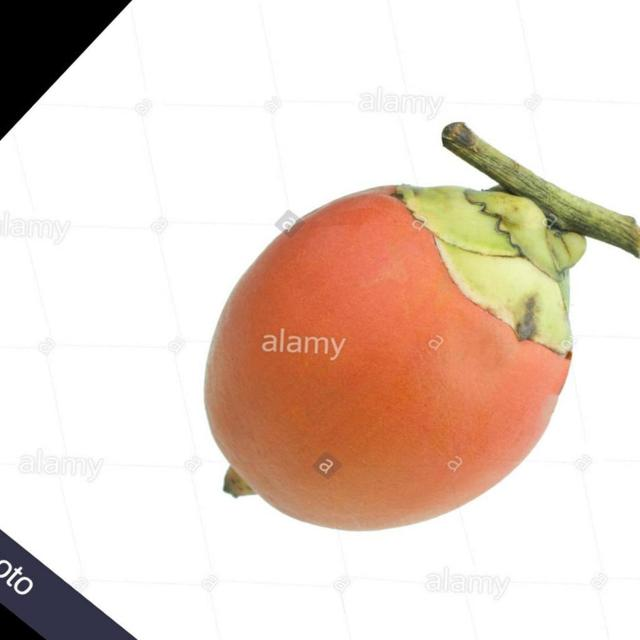good: (203, 185, 586, 534)
